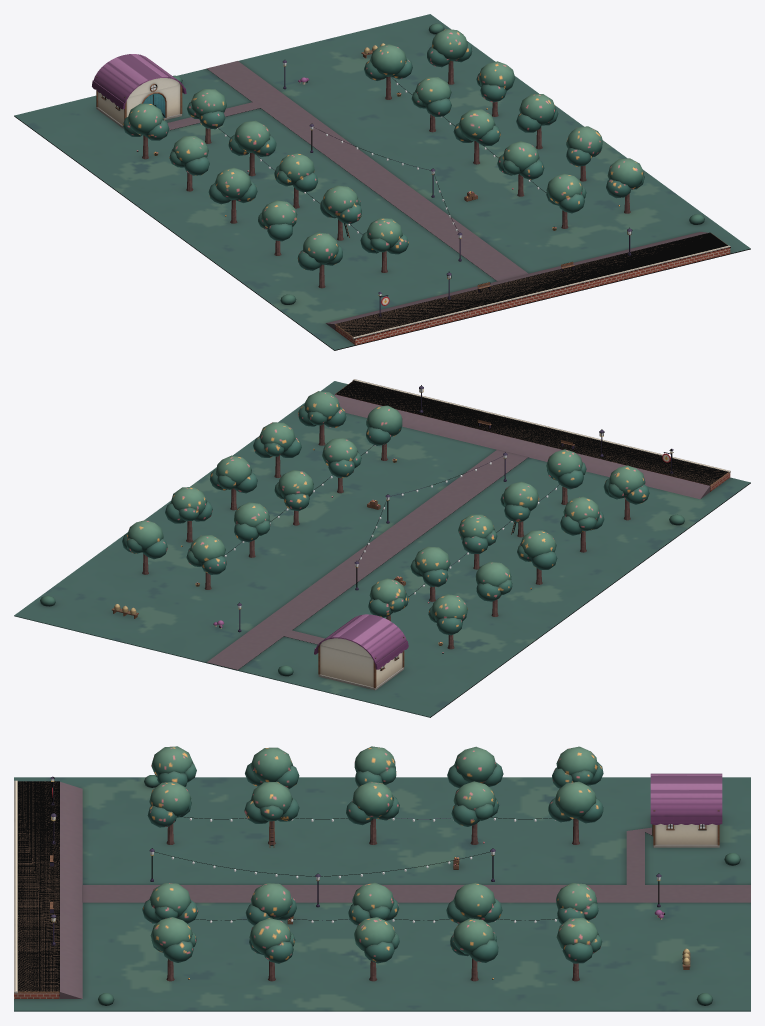
The model's file is stop_orchard.fbx.
3 views of the same model, one above another, from view 1: azimuth 30°, elevation 25°; view 2: azimuth 150°, elevation 25°; view 3: azimuth 270°, elevation 25° (orthographic). The views are drawn at different scales.
Visible parts, largest first — view 1: stop_orchard; view 2: stop_orchard; view 3: stop_orchard.
Boxes of the visible parts, <box> form: stop_orchard: <box>14,14,750,350</box>; stop_orchard: <box>14,379,750,717</box>; stop_orchard: <box>14,746,750,1011</box>.
Size of the model in its own units: 12000 by 1458 by 16000.
Materials: 2 (1 with a texture image).
